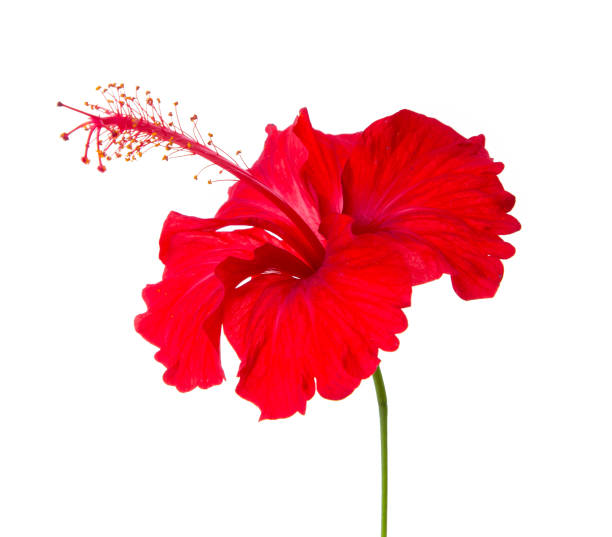Hibiscus: (46, 76, 523, 427)
